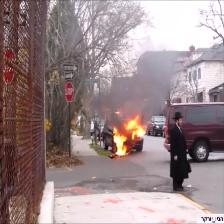fire: (110, 117, 155, 161)
